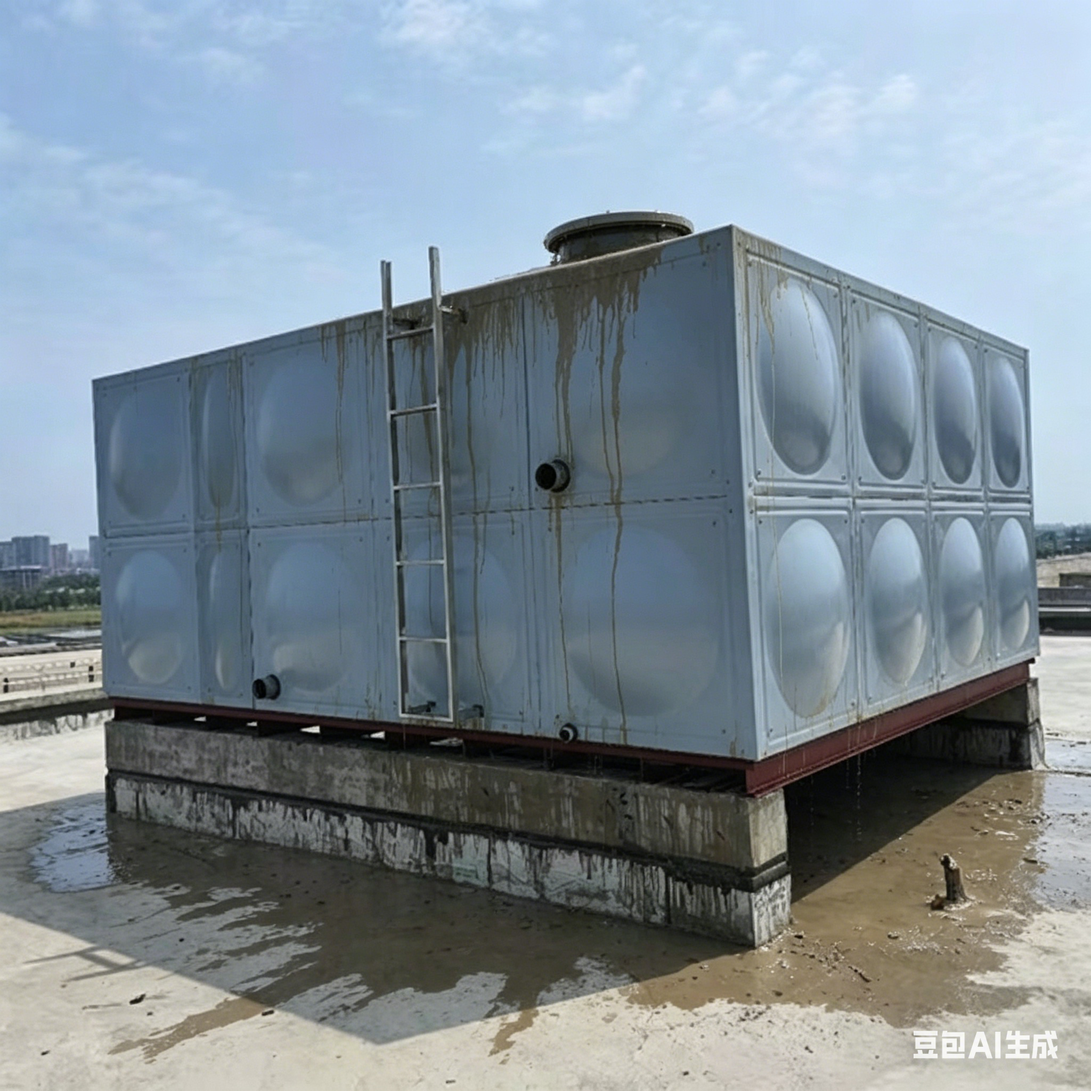Leakage: (34, 804, 764, 979), (788, 788, 1091, 1029), (407, 197, 674, 361)
